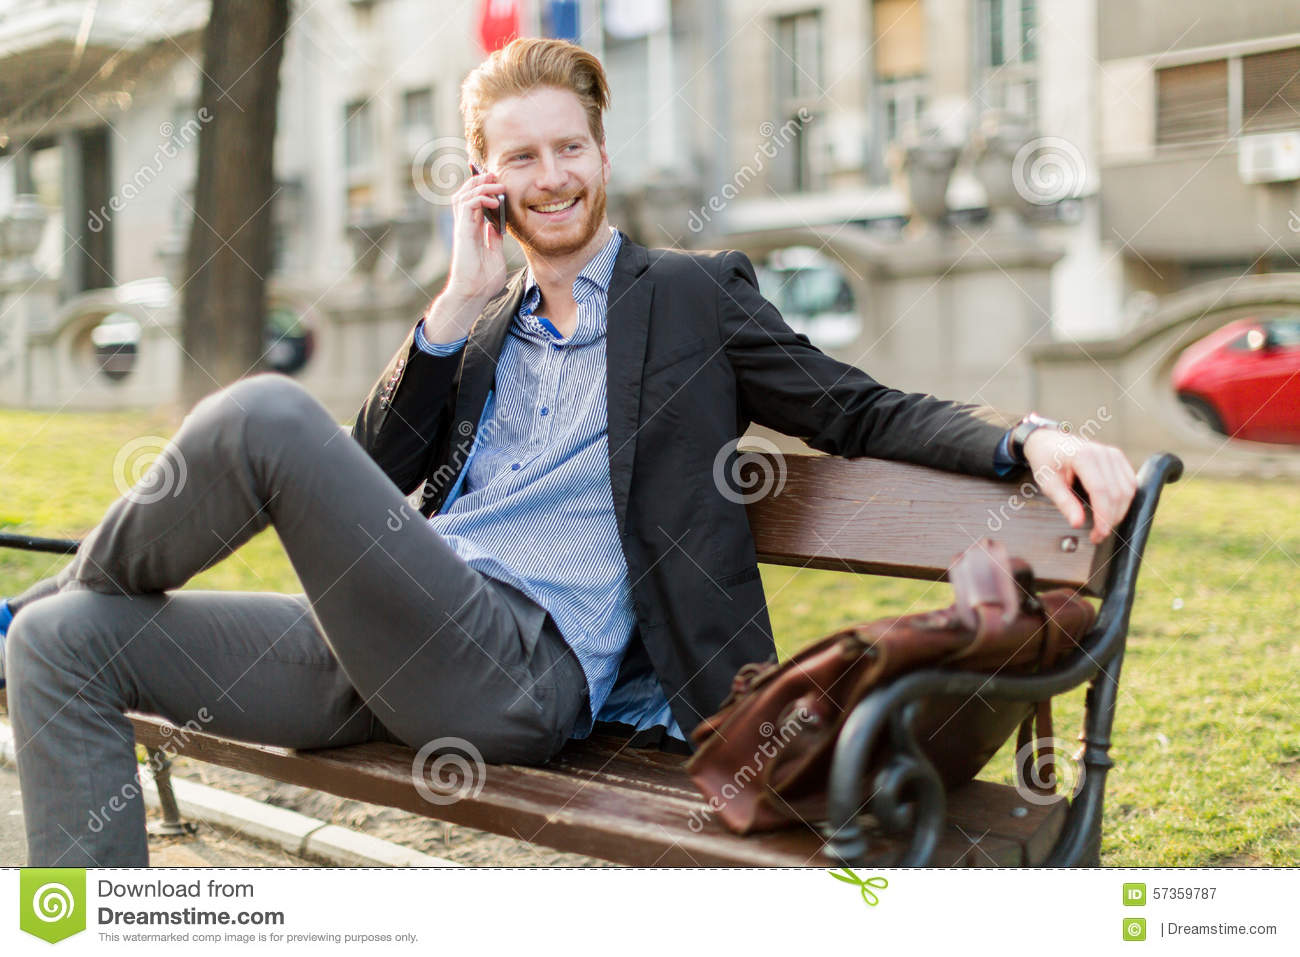phone: (465, 166, 512, 233)
talk: (446, 130, 601, 306)
